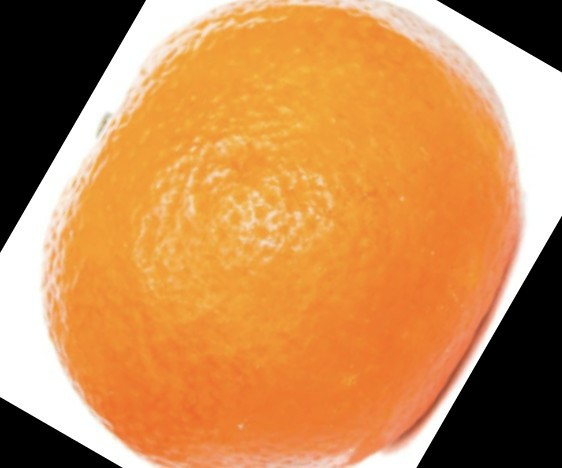fresh_orange: (46, 2, 521, 468)
